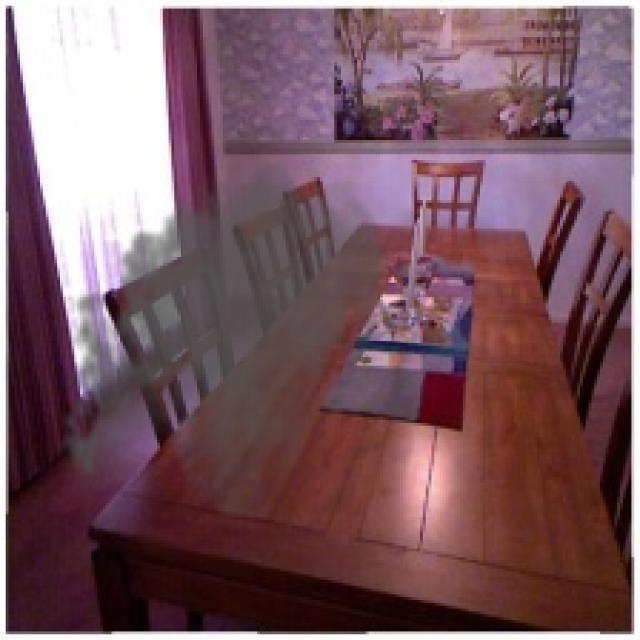Smoke: (52, 145, 394, 518)
